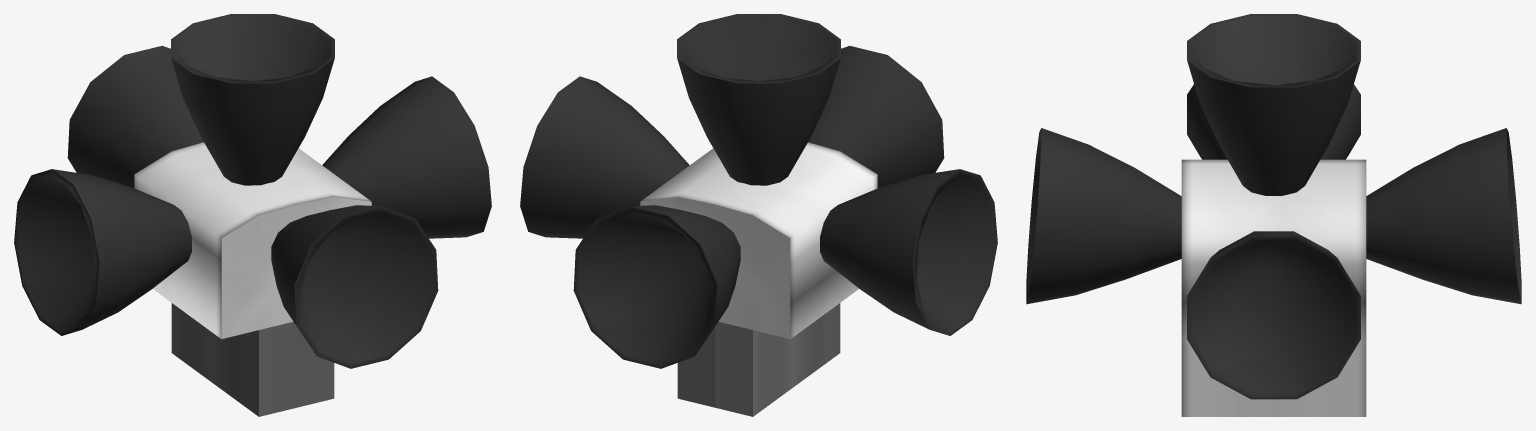
The model's file is RCS5-Way.FBX.
3 renders of one model, left to right at view 1: azimuth 30°, elevation 25°; view 2: azimuth 150°, elevation 25°; view 3: azimuth 270°, elevation 25°, orthographic. The views are drawn at different scales.
Parts seen in each view (by area): view 1: Cylinder012, Cylinder008, Cylinder004, Cylinder003, Cylinder006, Cylinder007; view 2: Cylinder012, Cylinder008, Cylinder007, Cylinder003, Cylinder006, Cylinder004; view 3: Cylinder006, Cylinder003, Cylinder012, Cylinder004, Cylinder007, Cylinder008.
Part boxes in pixels (box(x1,y1,x2,y2)): Cylinder012: box(134, 142, 371, 416); Cylinder008: box(14, 169, 191, 335); Cylinder004: box(271, 205, 438, 368); Cylinder003: box(171, 14, 334, 185); Cylinder006: box(322, 76, 491, 238); Cylinder007: box(67, 45, 203, 187); Cylinder012: box(640, 142, 877, 416); Cylinder008: box(820, 169, 997, 335); Cylinder007: box(573, 205, 740, 368); Cylinder003: box(677, 14, 840, 185); Cylinder006: box(520, 76, 689, 238); Cylinder004: box(808, 45, 944, 187); Cylinder006: box(1187, 231, 1360, 399); Cylinder003: box(1187, 14, 1360, 195); Cylinder012: box(1181, 159, 1366, 416); Cylinder004: box(1026, 128, 1181, 304); Cylinder007: box(1366, 128, 1521, 304); Cylinder008: box(1187, 84, 1360, 159).
Size of the model in its own units: 0.9755 by 0.7533 by 0.9755.
